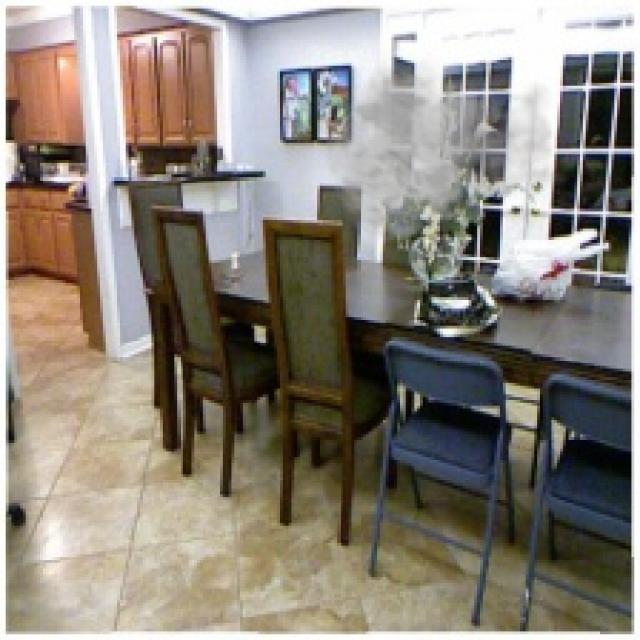smoke: (323, 48, 571, 248)
